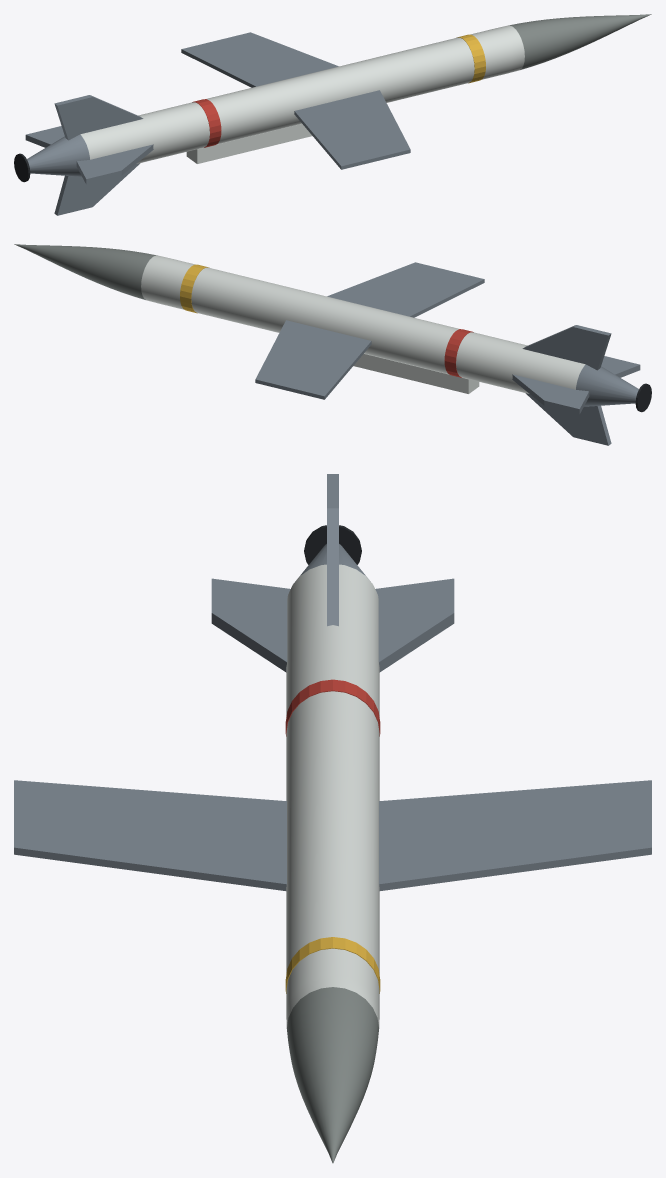
The model's file is pla_yj83k.glb.
3 views of the same model, one above another, from view 1: azimuth 30°, elevation 25°; view 2: azimuth 150°, elevation 25°; view 3: azimuth 270°, elevation 25° (orthographic). The views are drawn at different scales.
Parts seen in each view (by area): view 1: missile_body, titanium, seeker, marking_yellow, hazard_red, rubber; view 2: missile_body, titanium, seeker, marking_yellow, hazard_red, rubber; view 3: titanium, missile_body, seeker, hazard_red, marking_yellow, rubber.
Part boxes in pixels (left/top/right/bottom): missile_body: left=80, top=25, right=524, bottom=163; titanium: left=25, top=32, right=410, bottom=215; seeker: left=508, top=14, right=651, bottom=69; marking_yellow: left=456, top=34, right=485, bottom=83; hazard_red: left=192, top=99, right=221, bottom=147; rubber: left=14, top=153, right=30, bottom=182; missile_body: left=141, top=255, right=585, bottom=393; titanium: left=255, top=262, right=640, bottom=445; seeker: left=14, top=244, right=157, bottom=299; marking_yellow: left=180, top=264, right=209, bottom=313; hazard_red: left=444, top=329, right=473, bottom=377; rubber: left=635, top=383, right=651, bottom=412; titanium: left=14, top=474, right=651, bottom=890; missile_body: left=286, top=564, right=379, bottom=1028; seeker: left=287, top=987, right=378, bottom=1163; hazard_red: left=285, top=679, right=380, bottom=736; marking_yellow: left=285, top=937, right=380, bottom=993; rubber: left=304, top=525, right=361, bottom=564.
Bounding box in the file's own units: 10 × 1.67 × 4.4.
